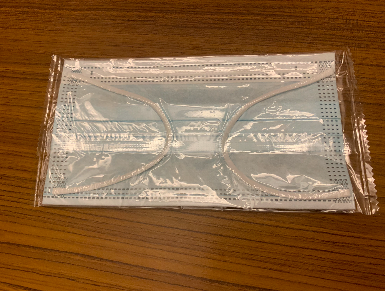Nonfood: (31, 38, 371, 229)
